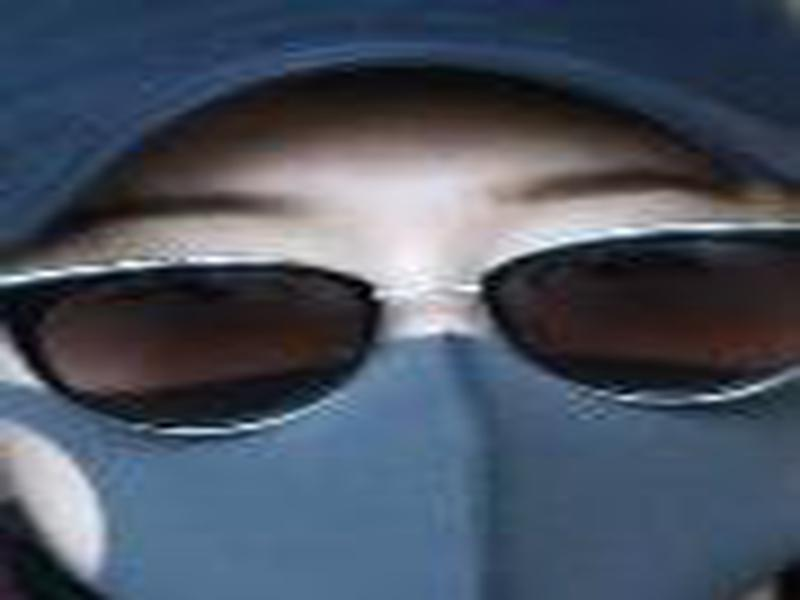with_mask: (1, 65, 800, 600)
